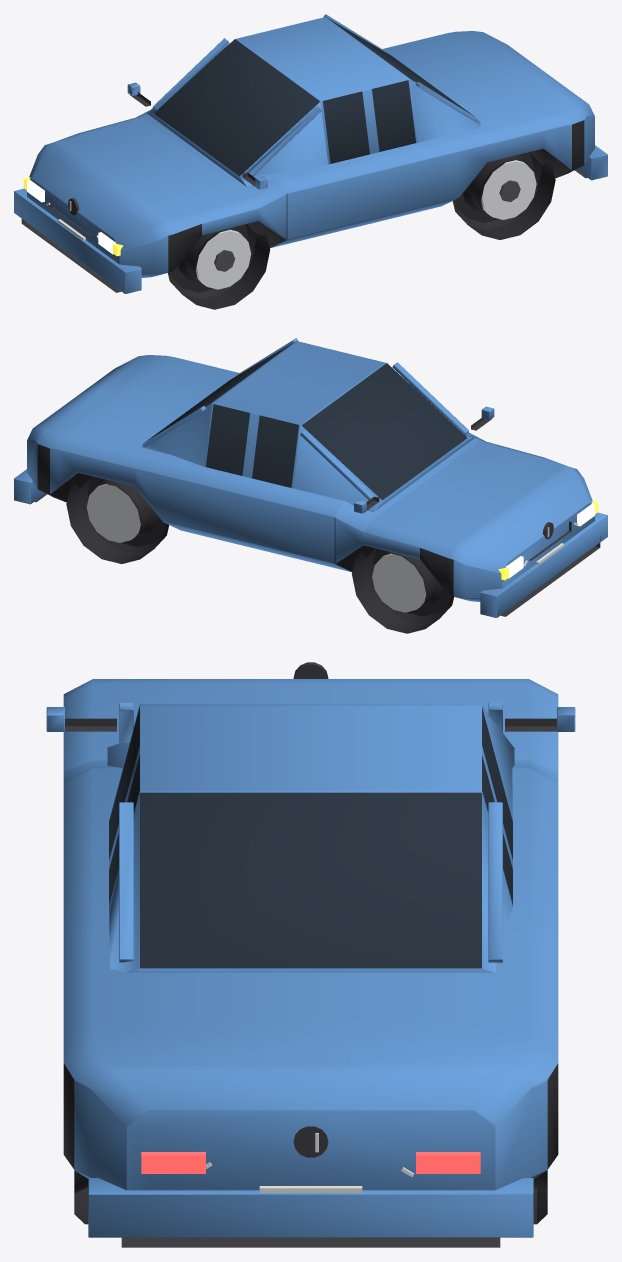
File: car_azura.glb
3 views of the same model, one above another, from view 1: azimuth 30°, elevation 25°; view 2: azimuth 150°, elevation 25°; view 3: azimuth 270°, elevation 25° (orthographic). The views are drawn at different scales.
Bounding box in the file's own units: 1.9 × 0.6344 × 0.8981.
